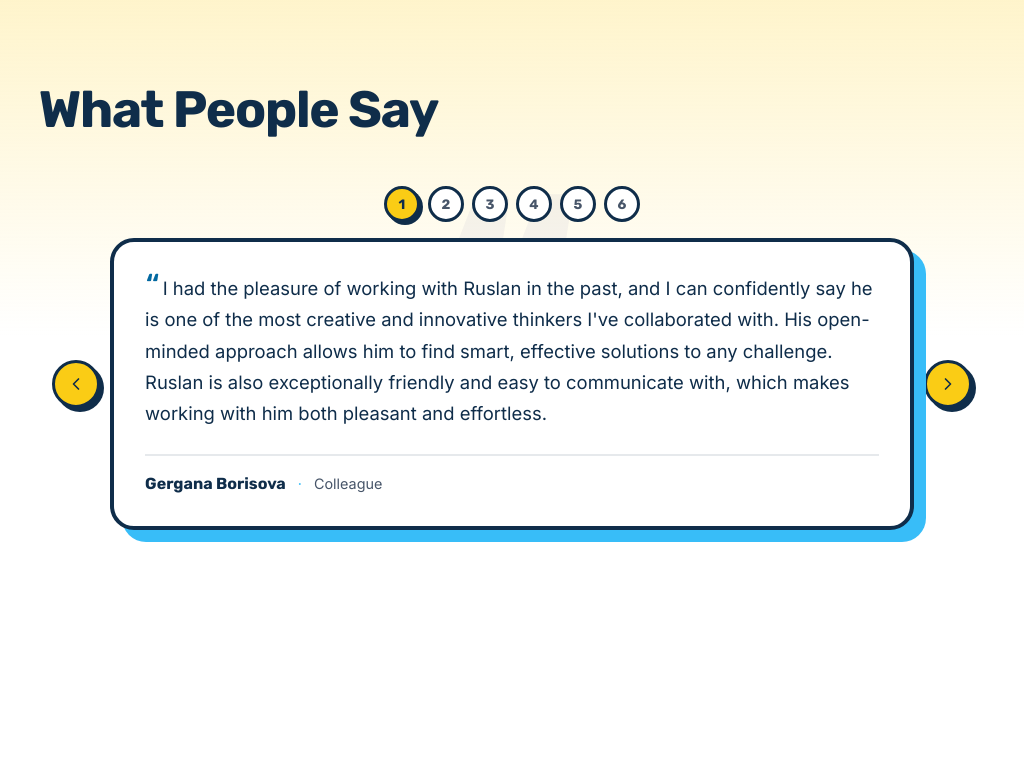
Test: Feedbacks › navigates to next testimonial
Click the button named "Next testimonial" at (948, 384), box [924, 360, 972, 408]
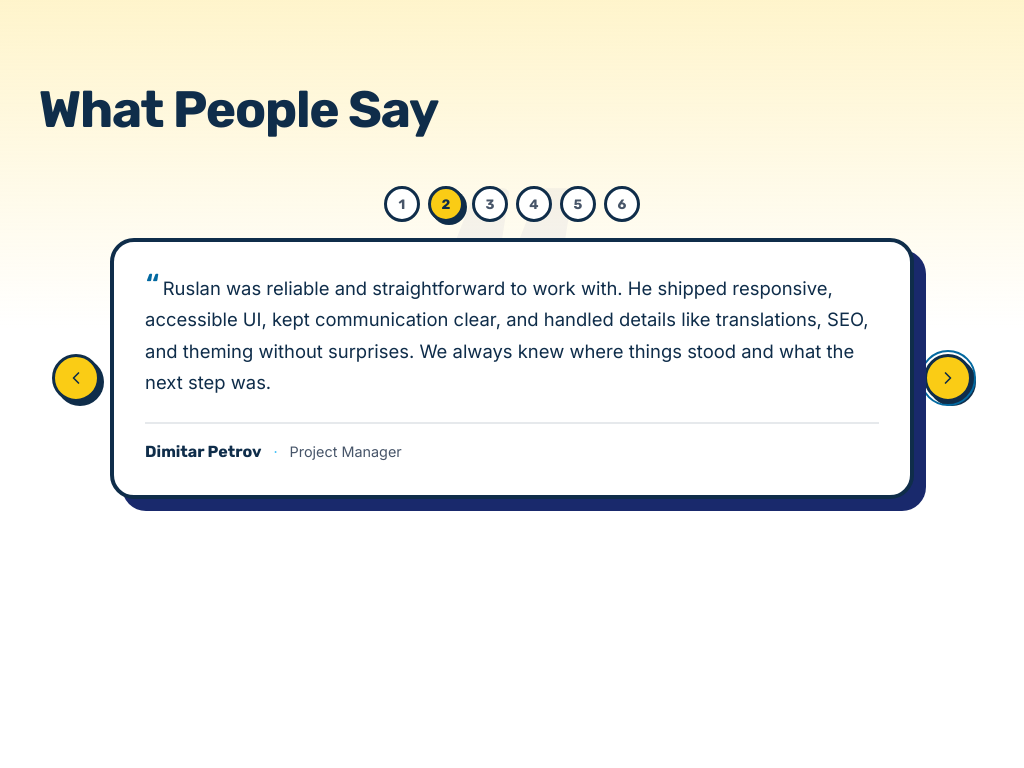
Now the text "Dimitar Petrov" is shown, box [145, 440, 261, 464]
